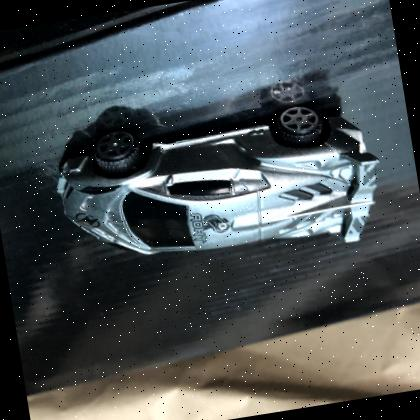Car: (56, 104, 379, 254)
